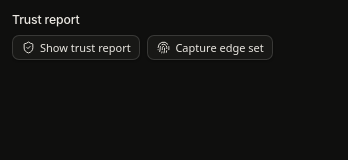
Test case: shows the trust determination, each gate and the claims not licensed
Click the button "Show trust report". click: {"x": 76, "y": 47}
box: [12,35,140,60]
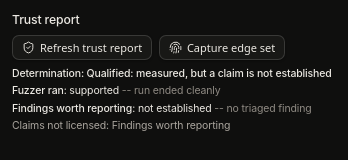
Expected: the element with test id "trust-report" shows "Qualified", [87,66,332,80]
Expected: the element with test id "trust-report" shows "Claims not licensed: Findings worth reporting", [12,66,332,132]
